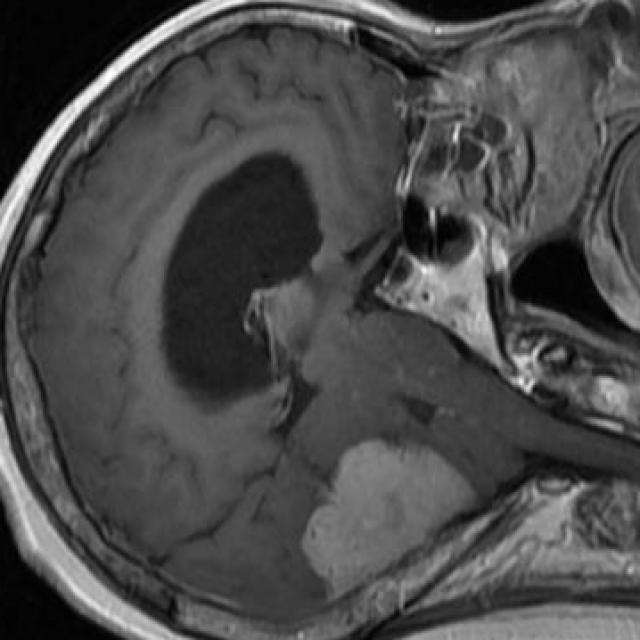meningioma: (301, 440, 476, 603)
